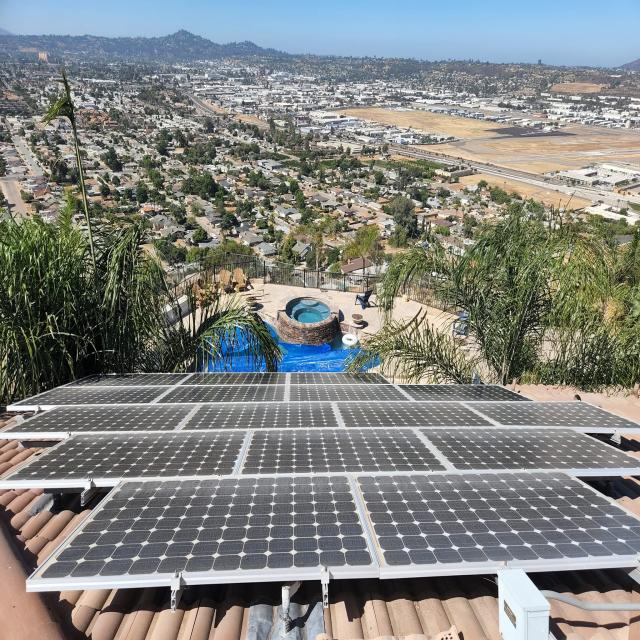dust-solar-panel: (0, 375, 640, 596)
